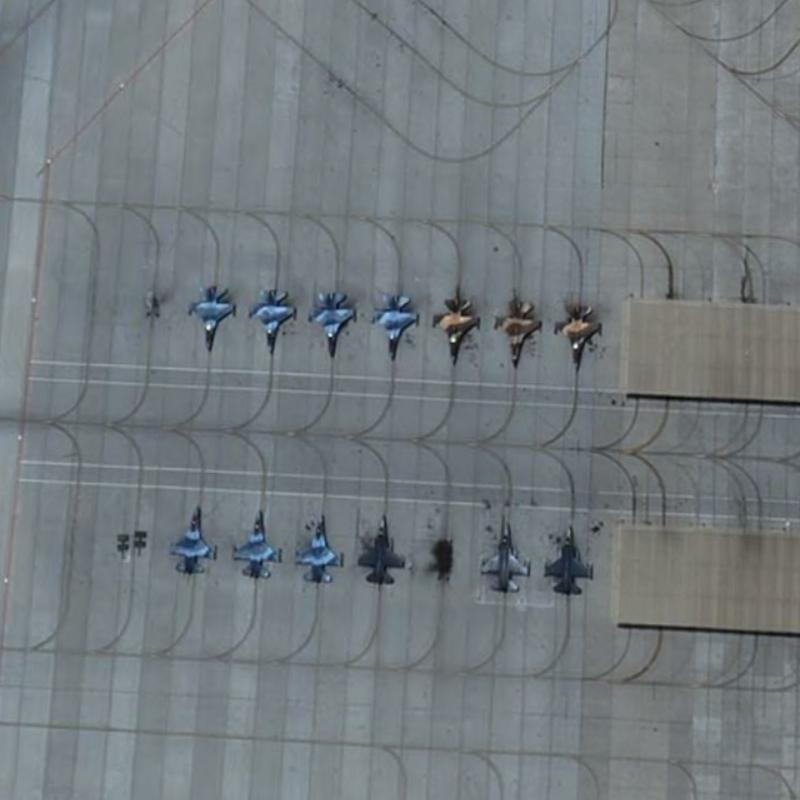A5: (162, 495, 225, 582), (472, 510, 533, 599), (425, 284, 486, 368), (226, 502, 286, 587), (550, 295, 612, 377), (490, 283, 544, 373), (540, 517, 599, 599), (287, 507, 346, 588), (351, 508, 410, 589), (242, 277, 299, 360), (368, 284, 420, 366), (306, 281, 358, 361), (187, 282, 238, 357)
